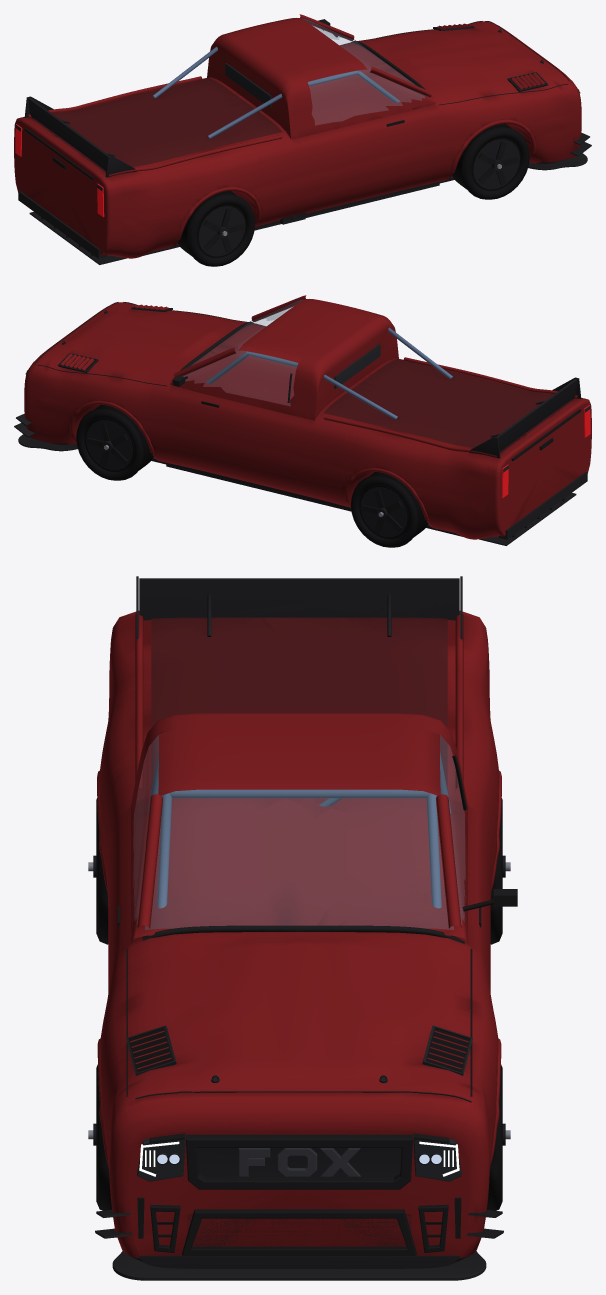
The model's file is truck_race_lod0.glb.
3 renders of one model, top to bottom at view 1: azimuth 30°, elevation 25°; view 2: azimuth 150°, elevation 25°; view 3: azimuth 270°, elevation 25°, orthographic. The views are drawn at different scales.
Visible parts, largest first — view 1: Body, Tire_FR, Tire_RR; view 2: Body, Tire_FL, Tire_RL; view 3: Body, Tire_FL, Tire_FR, Tire_RR, Tire_RL.
Boxes of the visible parts, x1,y1,x2,y2 form: Body: (14, 14, 591, 264); Tire_FR: (452, 123, 529, 199); Tire_RR: (178, 191, 254, 266); Body: (14, 295, 591, 545); Tire_FL: (76, 404, 153, 480); Tire_RL: (351, 472, 427, 547); Body: (95, 576, 517, 1280); Tire_FL: (487, 1064, 510, 1210); Tire_FR: (88, 1064, 111, 1210); Tire_RR: (88, 798, 108, 944); Tire_RL: (490, 798, 510, 944).
Bounding box in the file's own units: 5.64 × 1.7 × 2.15.
